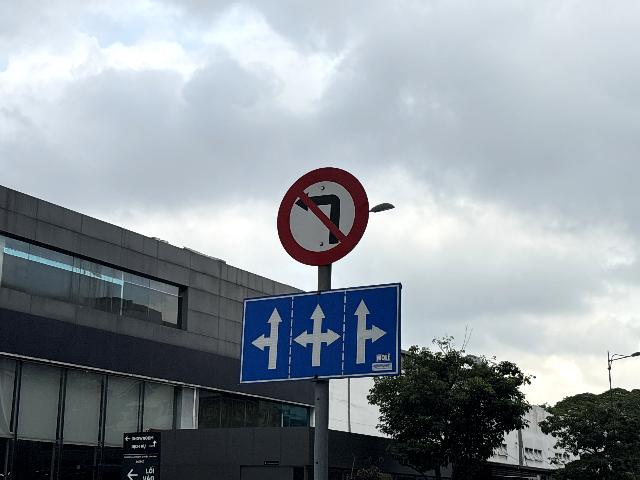cam-re-trai: (277, 166, 370, 267)
